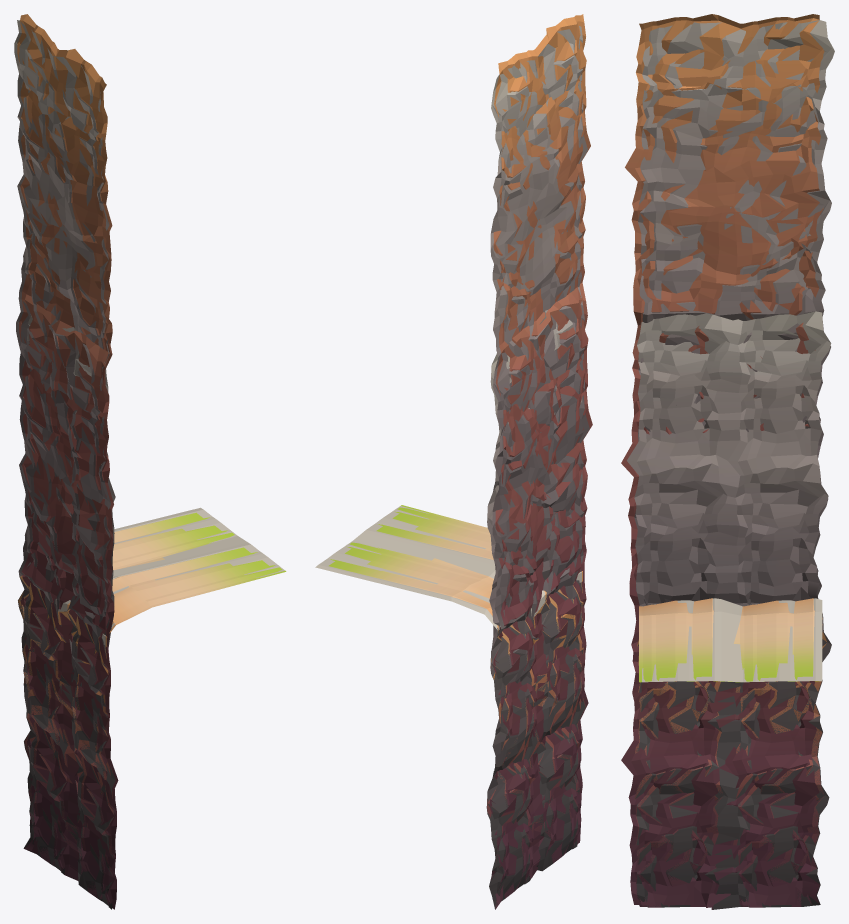
Rendered from climb_mountain.fbx.
3 renders of one model, left to right at view 1: azimuth 30°, elevation 25°; view 2: azimuth 150°, elevation 25°; view 3: azimuth 270°, elevation 25°, orthographic. The views are drawn at different scales.
Visible parts, largest first — view 1: scale3_v2, scale3_v1, peak2, scale1_v2, scale2_v1, peak1; view 2: scale3_v1, scale3_v2, peak2, peak1, scale1_v2, scale2_v1; view 3: scale3_v2, scale2_v1, scale3_v1, peak2, scale1_v2, peak1.
Boxes of the visible parts, box(x1,y1,x2,y2) form: scale3_v2: box(17, 14, 118, 909); scale3_v1: box(14, 20, 115, 909); peak2: box(21, 512, 286, 646); scale1_v2: box(18, 576, 114, 905); scale2_v1: box(18, 314, 115, 908); peak1: box(20, 507, 284, 645); scale3_v1: box(486, 26, 589, 909); scale3_v2: box(489, 14, 592, 905); peak2: box(329, 505, 582, 633); peak1: box(315, 506, 581, 635); scale1_v2: box(487, 582, 585, 909); scale2_v1: box(487, 296, 582, 908); scale3_v2: box(621, 14, 824, 907); scale2_v1: box(627, 311, 831, 908); scale3_v1: box(634, 20, 834, 909); peak2: box(639, 598, 818, 682); scale1_v2: box(634, 618, 826, 909); peak1: box(642, 598, 822, 682).
Size of the model in its own units: 1022 by 4382 by 953.
1 material, 1 textured.
